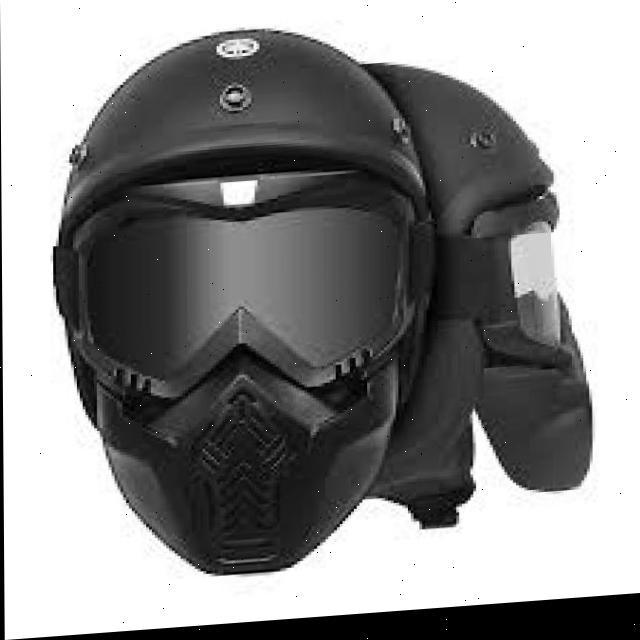Helmet: (50, 14, 582, 594)
